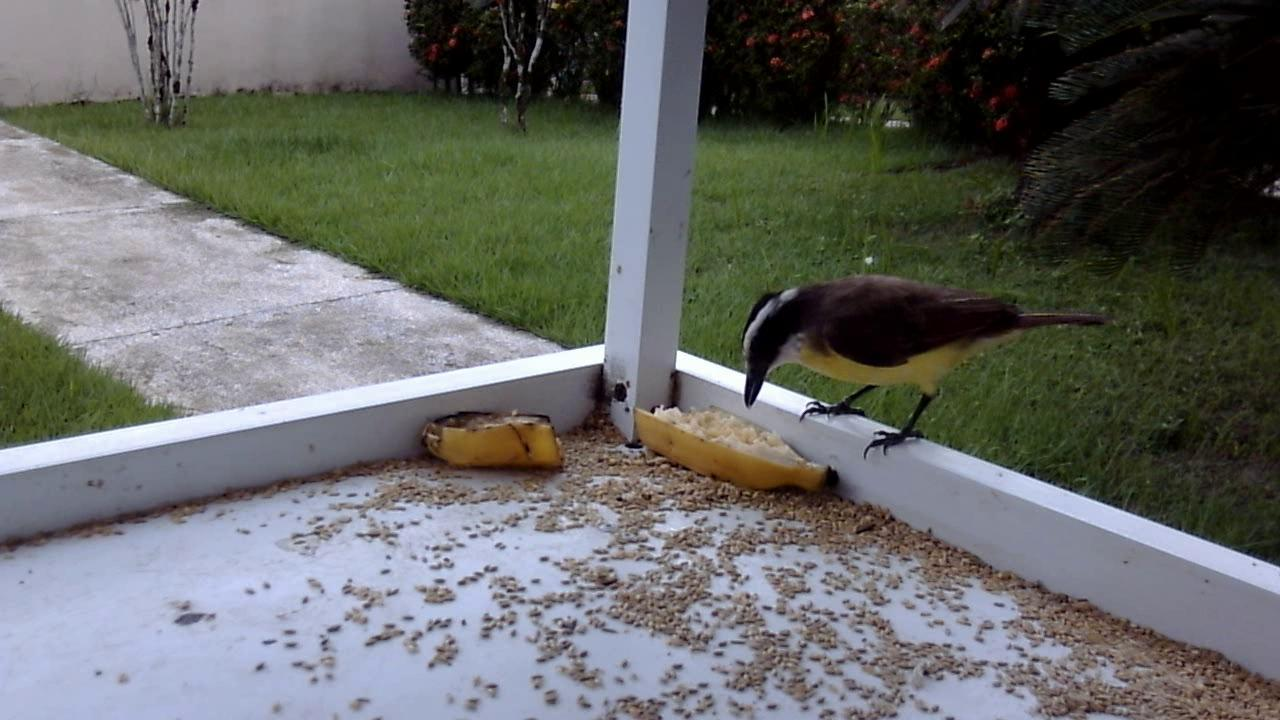bem_te_vi: (730, 248, 1121, 487)
